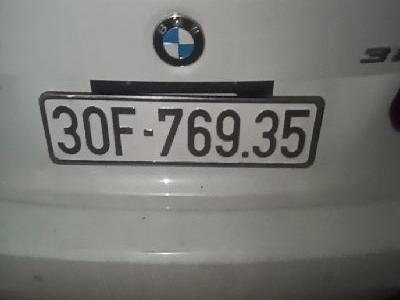car: (37, 92, 325, 170)
